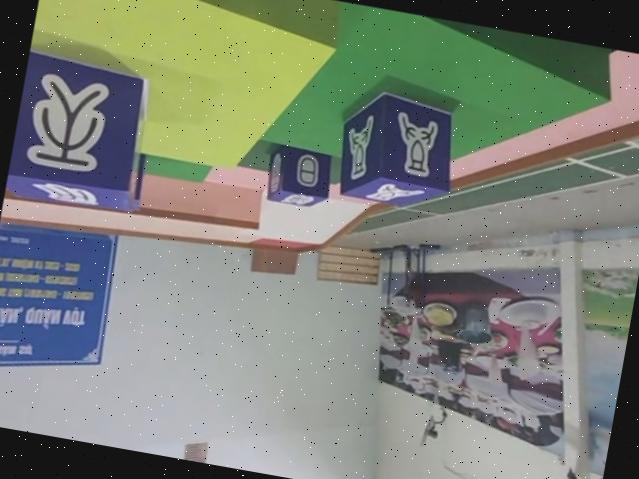R2 Fake Blue: (3, 46, 161, 220), (263, 143, 336, 212)
R2 Real Blue: (328, 83, 462, 212)
